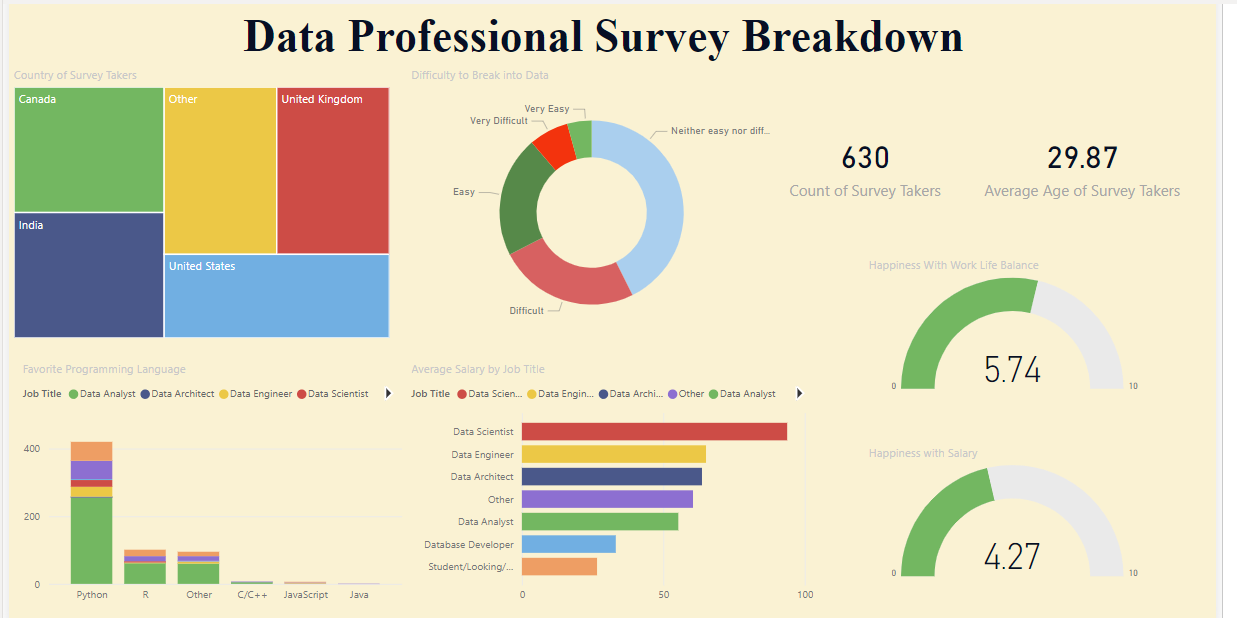

The page's visual inventory and layout, read from the dashboard file:
{"tool":"powerbi","page":{"name":"Page 1","canvas":[1280,720],"ordinal":0},"visuals":[{"type":"textbox","box":[10,20,1254,104],"z":0},{"type":"card","fields":{"Values":["Count(Data Professional Survey.Unique ID)"]},"box":[798,152,218,150],"z":1000},{"type":"card","fields":{"Values":["Avg(Data Professional Survey.Q10 - Current Age)"]},"box":[996,152,284,150],"z":2000},{"type":"barChart","title":"Average Salary by Job Title","fields":{"Category":["Data Professional Survey.Q1 - Which Title Best Fits your Current Role?.1"],"Y":["Avg(Data Professional Survey.Average Salary)"],"Series":["Data Professional Survey.Q1 - Which Title Best Fits your Current Role?.1"]},"box":[422,436,436,264],"z":3000},{"type":"columnChart","title":"Favorite Programming Language","fields":{"Category":["Data Professional Survey.Q5 - Favorite Programming Language.1"],"Y":["CountNonNull(Data Professional Survey.Unique ID)"],"Series":["Data Professional Survey.Q1 - Which Title Best Fits your Current Role?.1"]},"box":[10,436,412,264],"z":4000},{"type":"treemap","title":"Country of Survey Takers","fields":{"Group":["Data Professional Survey.Q11 - Which Country do you live in?.1"],"Values":["Count(Data Professional Survey.Q11 - Which Country do you live in?.1)"]},"box":[0,124,408,292],"z":5000},{"type":"gauge","title":"Happiness with Salary","fields":{"Y":["Avg(Data Professional Survey.Q6 - How Happy are you in your Current Position with the following? (Salary))"],"MinValue":["Min(Data Professional Survey.Q6 - How Happy are you in your Current Position with the following? (Salary))"],"MaxValue":["Max(Data Professional Survey.Q6 - How Happy are you in your Current Position with the following? (Salary))"]},"box":[906.8,524.6,319,149],"z":6000},{"type":"gauge","title":"Happiness With Work Life Balance","fields":{"Y":["Avg(Data Professional Survey.Q6 - How Happy are you in your Current Position with the following? (Work/Life Balance))"],"MinValue":["Min(Data Professional Survey.Q6 - How Happy are you in your Current Position with the following? (Work/Life Balance))1"],"MaxValue":["Max(Data Professional Survey.Q6 - How Happy are you in your Current Position with the following? (Work/Life Balance))"]},"box":[906.8,325.5,319,149],"z":7000},{"type":"donutChart","title":"Difficulty to Break into Data","fields":{"Category":["Data Professional Survey.Q7 - How difficult was it for you to break into Data?"],"Y":["CountNonNull(Data Professional Survey.Q7 - How difficult was it for you to break into Data?)"]},"box":[422,124,392,292],"z":7001}]}

Visuals, with their boxes on the page's 1280x720 design canvas (x1, y1, x2, y2). These are canvas units, not pixel positions in the 1237x618 screenshot, which may show the page scaled, cropped or inside an application window:
textbox: [10,20,1264,124]
card - Count(Data Professional Survey.Unique ID): [798,152,1016,302]
card - Avg(Data Professional Survey.Q10 - Current Age): [996,152,1280,302]
"Average Salary by Job Title" barChart: [422,436,858,700]
"Favorite Programming Language" columnChart: [10,436,422,700]
"Country of Survey Takers" treemap: [0,124,408,416]
"Happiness with Salary" gauge: [907,525,1226,674]
"Happiness With Work Life Balance" gauge: [907,326,1226,474]
"Difficulty to Break into Data" donutChart: [422,124,814,416]
